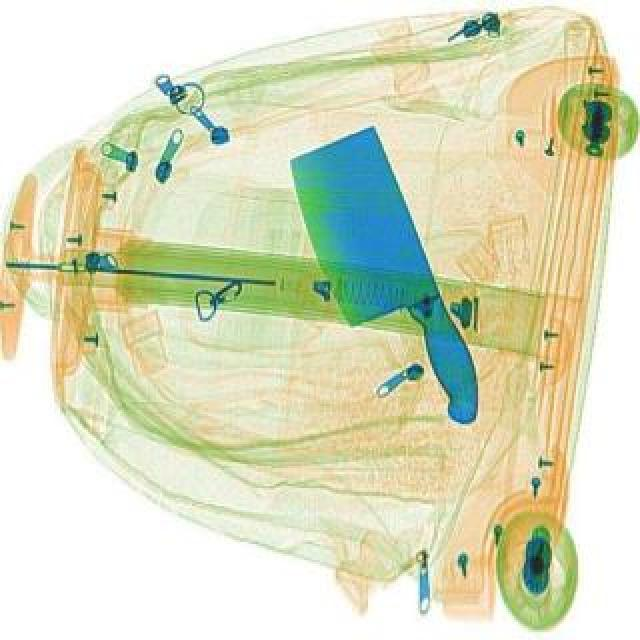knife: (270, 124, 506, 456)
